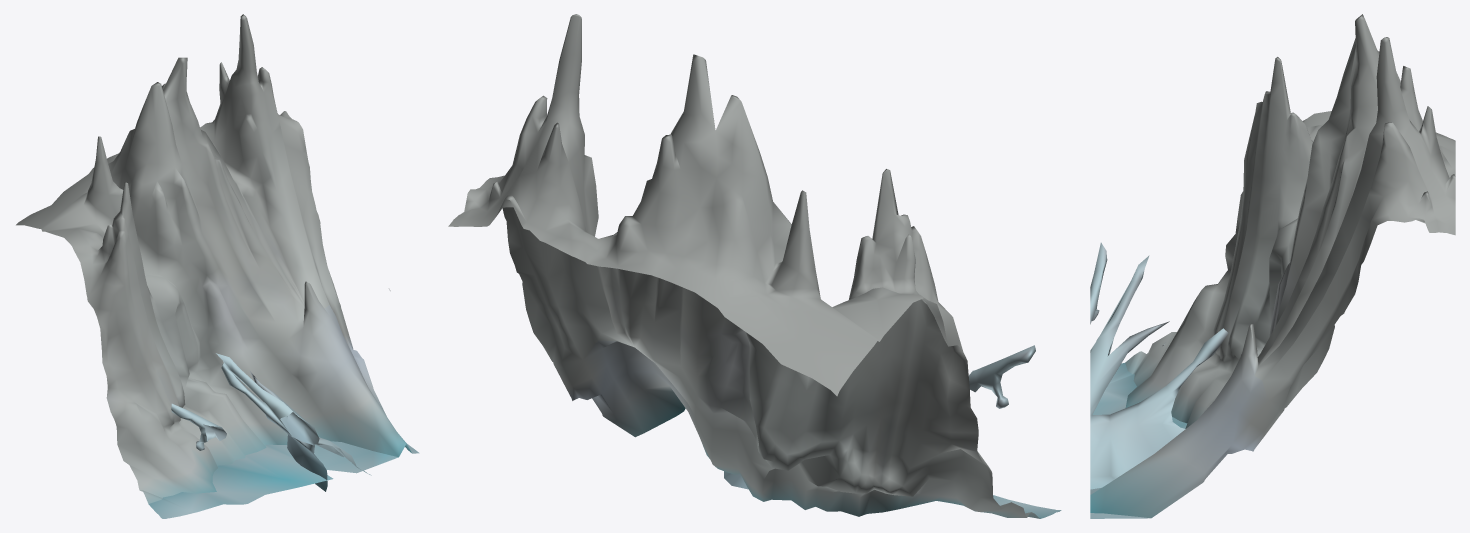
3 renders of one model, left to right at view 1: azimuth 30°, elevation 25°; view 2: azimuth 150°, elevation 25°; view 3: azimuth 270°, elevation 25°, orthographic. The views are drawn at different scales.
Parts seen in each view (by area): view 1: G:\FFXIV-MapTools\exports\s1f2\bg\ffxiv\sea_s1\fld\s1f2\bgpl (×14); view 2: G:\FFXIV-MapTools\exports\s1f2\bg\ffxiv\sea_s1\fld\s1f2\bgpl (×12); view 3: G:\FFXIV-MapTools\exports\s1f2\bg\ffxiv\sea_s1\fld\s1f2\bgpl (×12).
Boxes of the visible parts, x1=… form: G:\FFXIV-MapTools\exports\s1f2\bg\ffxiv\sea_s1\fld\s1f2\bgpl (×14): x1=16, y1=14, x2=419, y2=518; G:\FFXIV-MapTools\exports\s1f2\bg\ffxiv\sea_s1\fld\s1f2\bgpl (×12): x1=448, y1=14, x2=1052, y2=518; G:\FFXIV-MapTools\exports\s1f2\bg\ffxiv\sea_s1\fld\s1f2\bgpl (×12): x1=1090, y1=14, x2=1455, y2=518.
Size of the model in its own units: 128 by 181 by 128.
